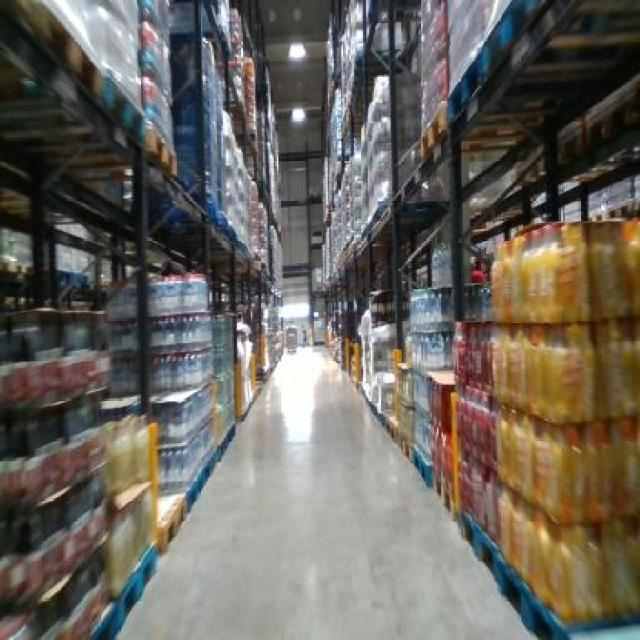pallet: (75, 530, 167, 638), (455, 494, 503, 616), (144, 480, 198, 573)
